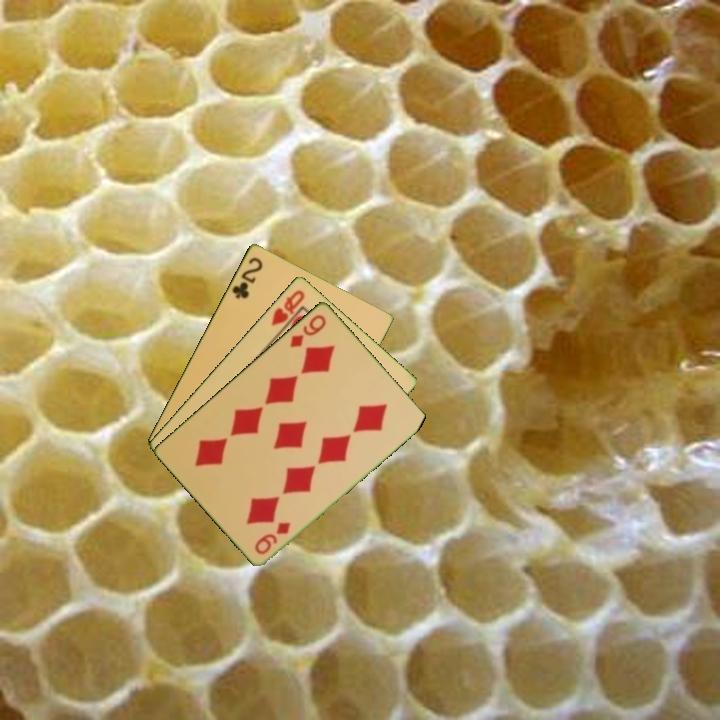2c: (228, 253, 265, 301)
9d: (286, 310, 329, 350), (251, 518, 294, 557)
Qh: (267, 286, 308, 336)
